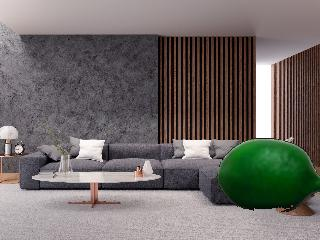lime: (215, 134, 320, 214)
